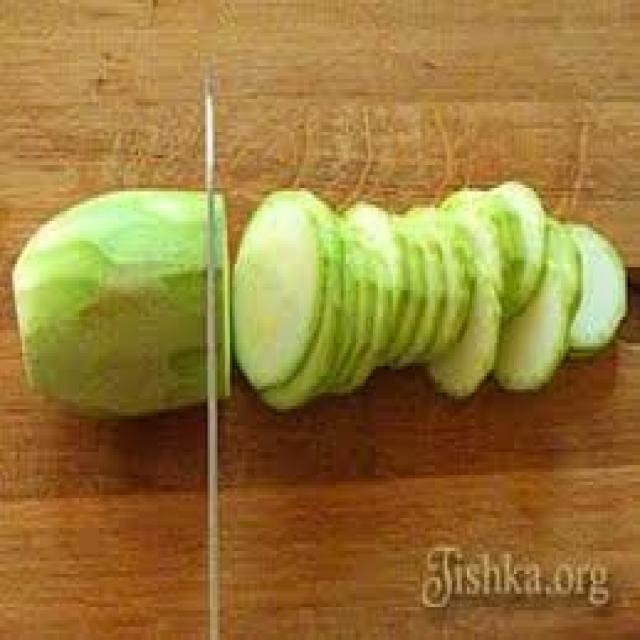vegetable marrow: (231, 176, 627, 426), (0, 156, 252, 440)
